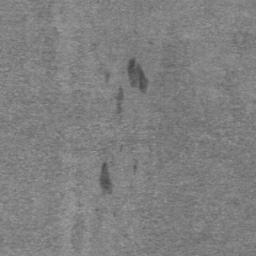Iron scale compression: (126, 58, 148, 94), (99, 162, 113, 196), (116, 85, 123, 115)
